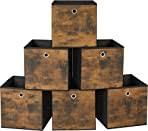cube: (3, 76, 48, 131), (24, 39, 70, 91), (105, 75, 148, 128), (80, 40, 125, 89), (51, 2, 98, 48), (51, 92, 97, 131)
